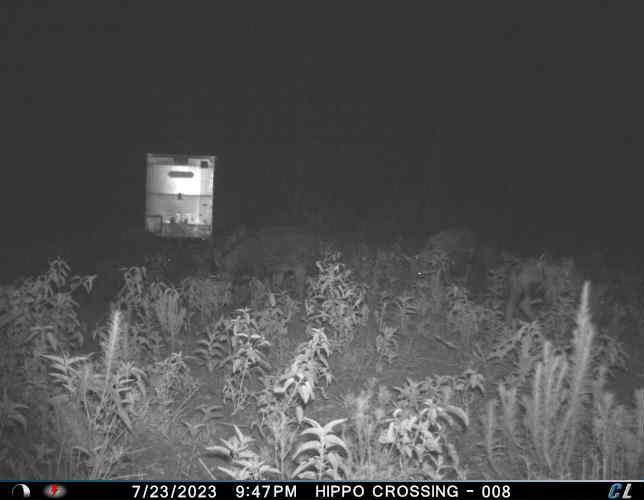Hog: (208, 224, 322, 298), (402, 226, 478, 287), (507, 254, 555, 332)
